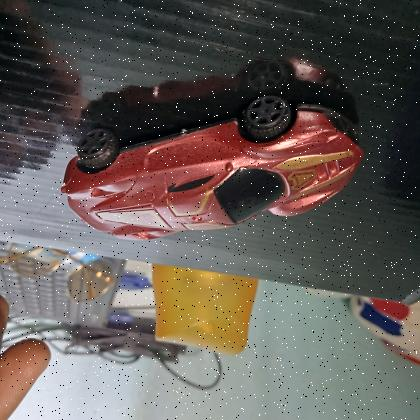Car: (57, 89, 368, 248)
